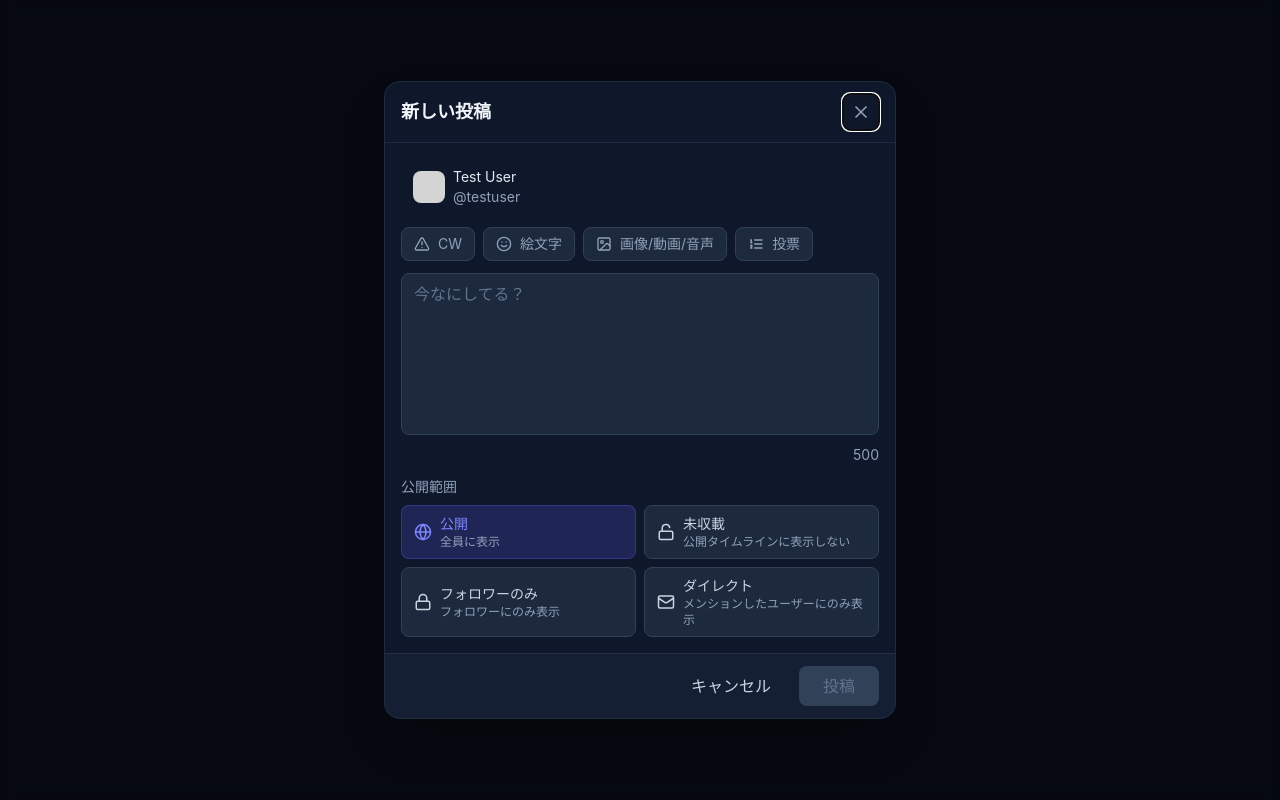
it: ComposeModal › displays error message on post failure
Type "Test post content" into the text box with placeholder "今なにしてる？" at (640, 354), box [401,273,879,435]
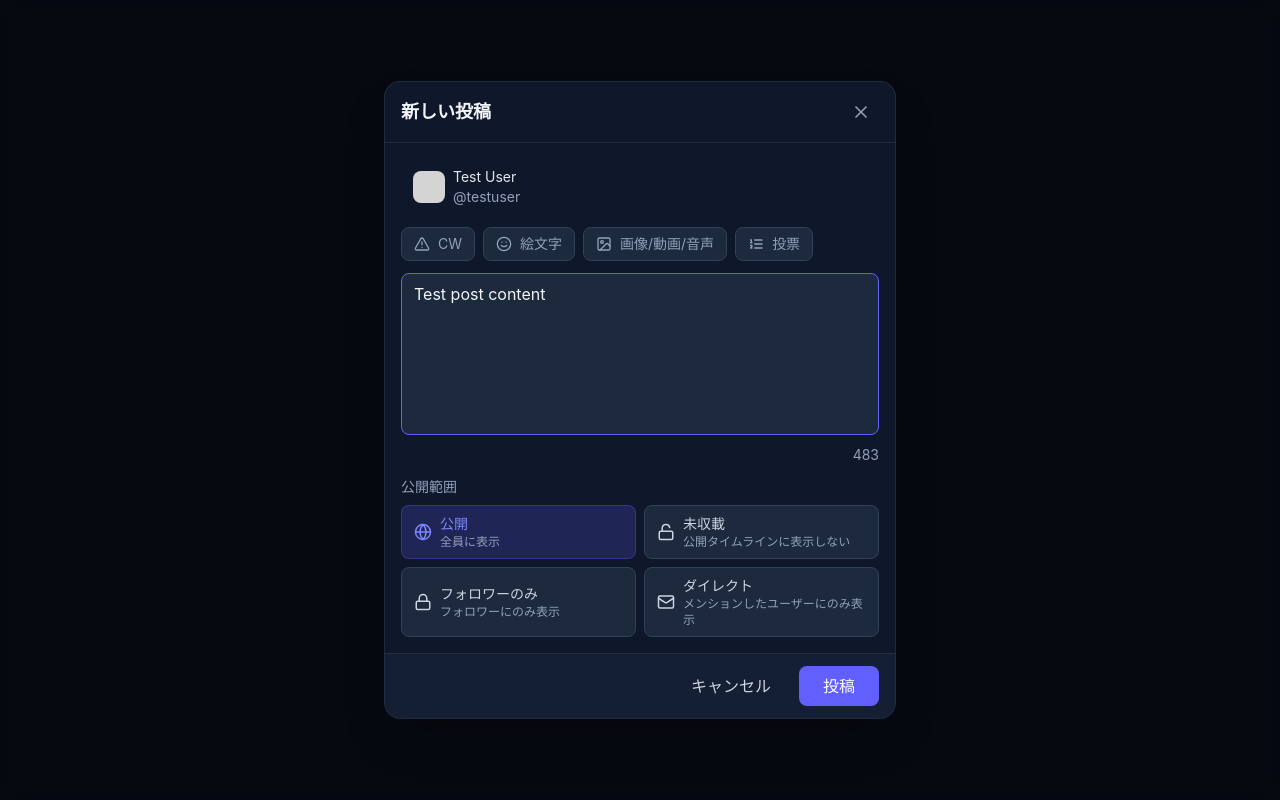
Click the button with aria-label "投稿を送信" at (839, 686), box [799,666,879,706]
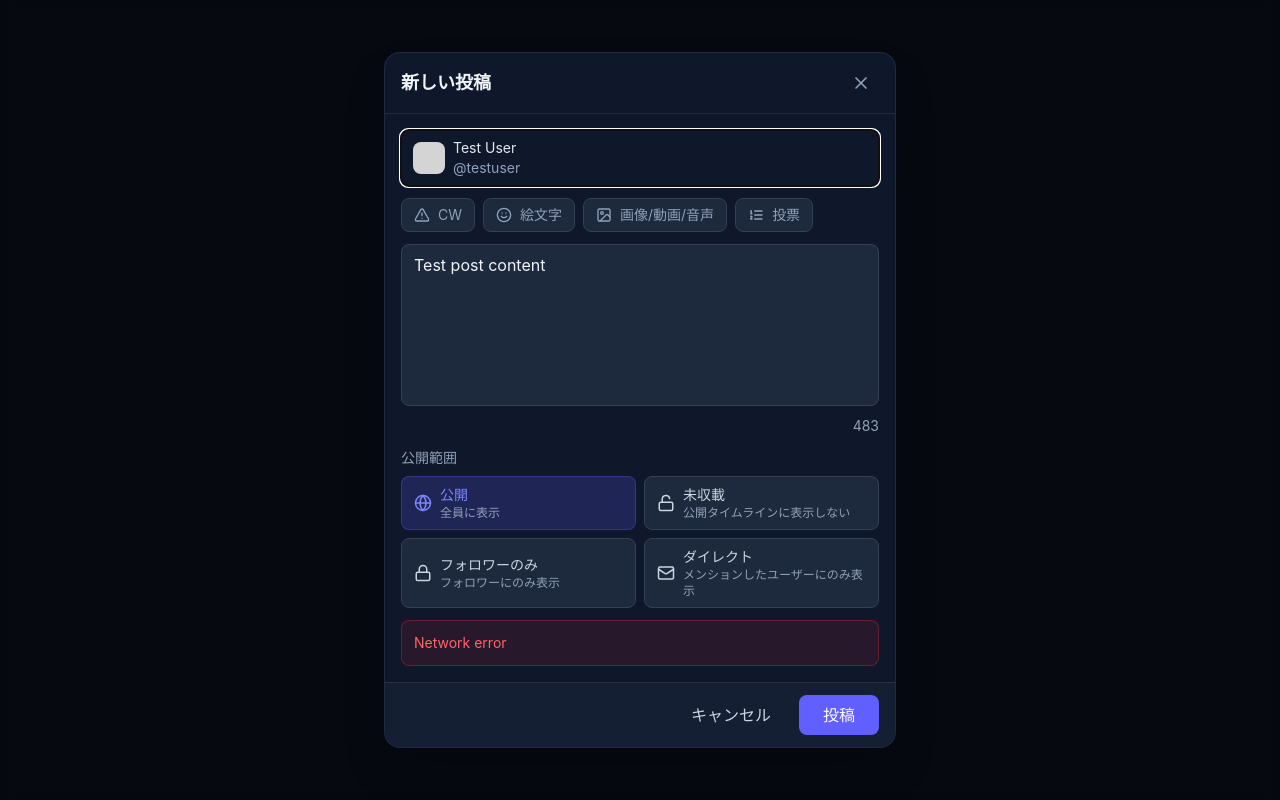
Now the text "Network error" is shown, box [401,620,879,666]
